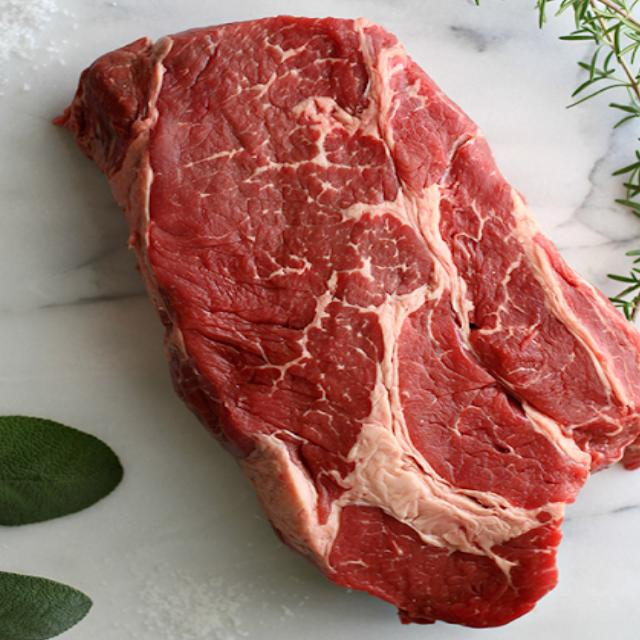beef: (61, 9, 640, 629)
